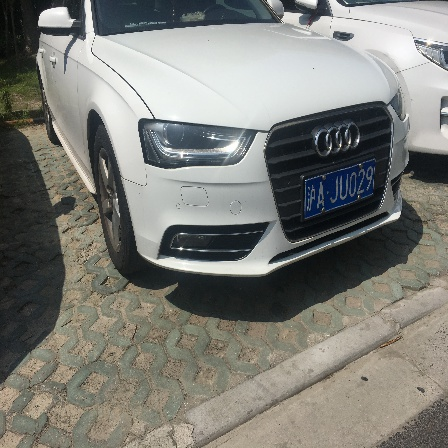plate: (299, 157, 383, 211)
